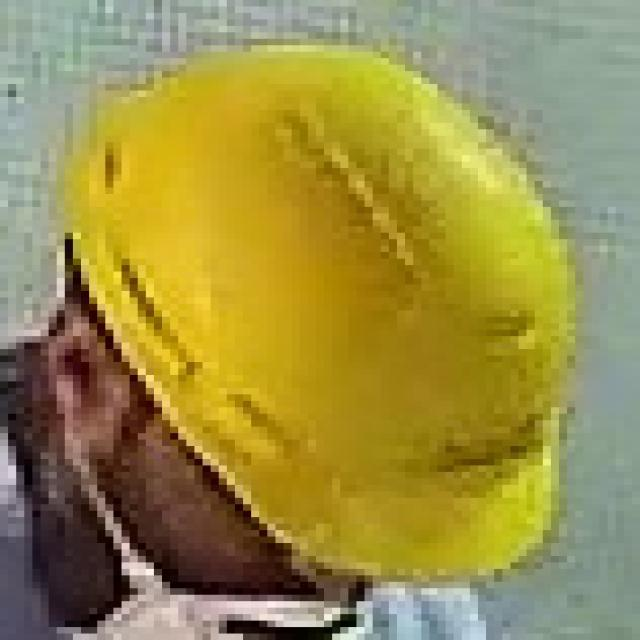yellow helmet: (65, 40, 569, 585)
